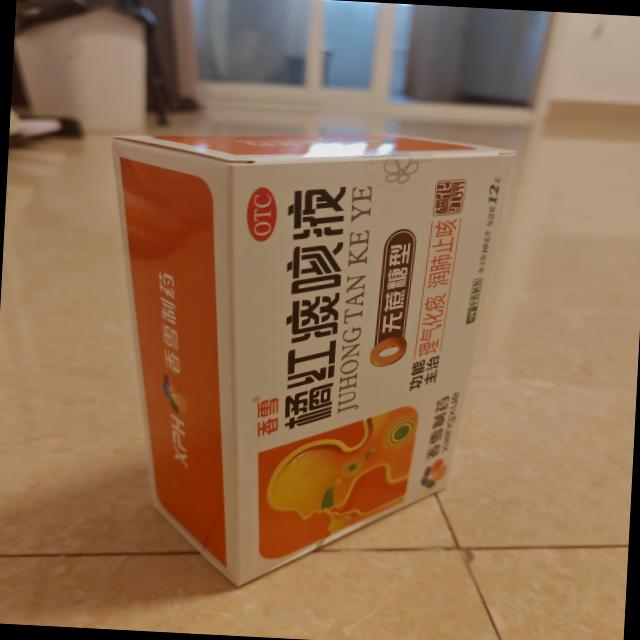box: (80, 112, 526, 606)
